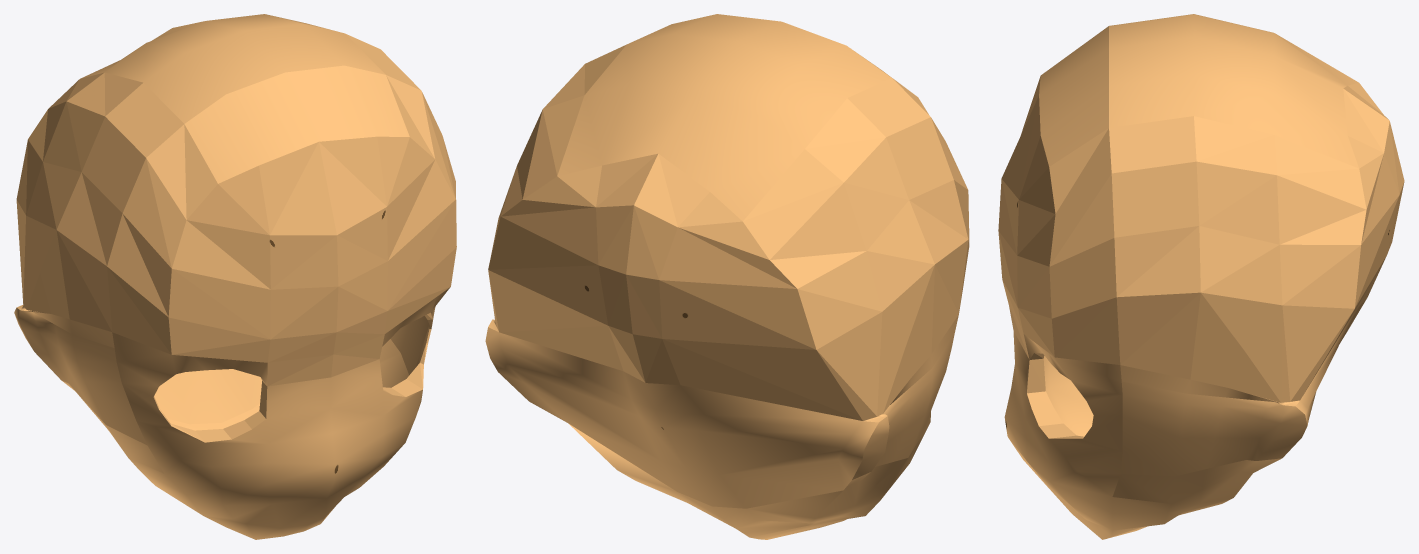
The model's file is yuuta head 2.FBX.
3 renders of one model, left to right at view 1: azimuth 30°, elevation 25°; view 2: azimuth 150°, elevation 25°; view 3: azimuth 270°, elevation 25°, orthographic. The views are drawn at different scales.
Visible parts, largest first — view 1: Head; view 2: Head; view 3: Head.
Part boxes in pixels (left/top/right/bottom): Head: left=14, top=14, right=456, bottom=539; Head: left=485, top=14, right=969, bottom=539; Head: left=998, top=14, right=1404, bottom=539.
Size of the model in its own units: 29.86 by 27.45 by 36.82.
